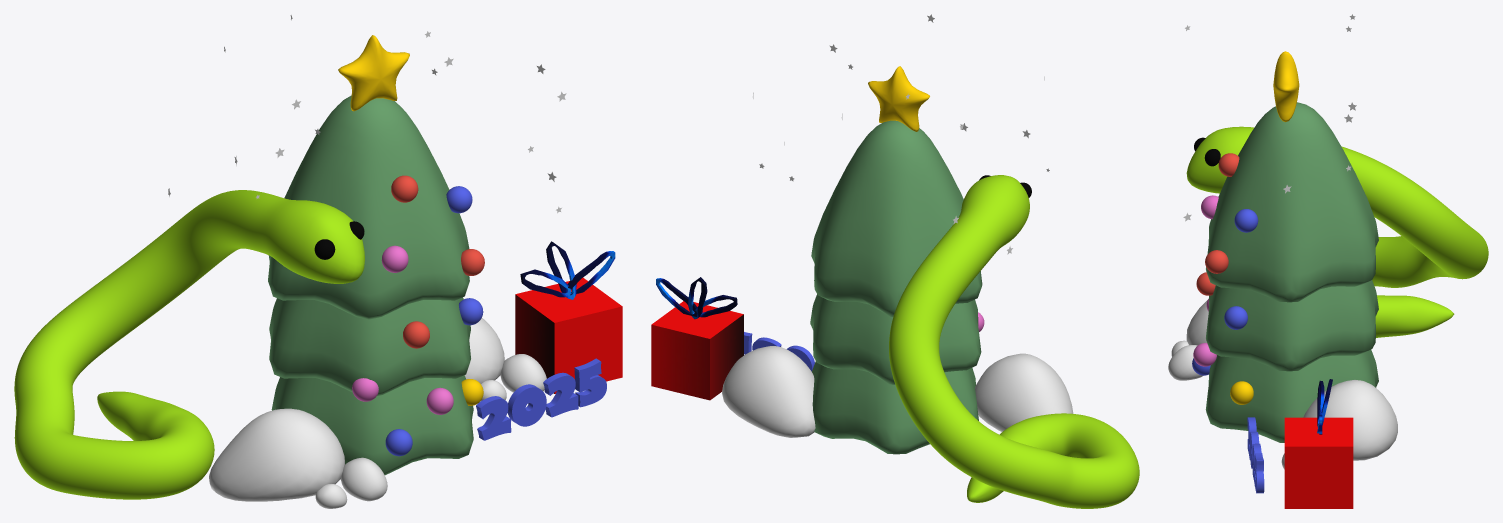
3 views of the same model, side by side, from view 1: azimuth 30°, elevation 25°; view 2: azimuth 150°, elevation 25°; view 3: azimuth 270°, elevation 25° (orthographic). The views are drawn at different scales.
Parts seen in each view (by area): view 1: Zmeya, Cylinder.003, Cylinder.001, Sphere.018, Cylinder.002, Cube.001, Text, Sphere.001, Zvezda; view 2: Zmeya, Cylinder.003, Cube.001, Cylinder.002, Cylinder.001, Sphere.001, Sphere.018, Zvezda, Text; view 3: Cylinder.003, Zmeya, Cylinder.001, Cylinder.002, Cube.001, Sphere.001, Sphere.018, Zvezda, Text, Sphere.005, Sphere.008, Sphere.002 (+3 smaller).
Boxes of the visible parts, left/top/right/bottom form: Zmeya: left=14, top=190, right=364, bottom=499; Cylinder.003: left=268, top=95, right=469, bottom=319; Cylinder.001: left=269, top=297, right=470, bottom=395; Sphere.018: left=209, top=408, right=387, bottom=508; Cylinder.002: left=271, top=375, right=473, bottom=475; Cube.001: left=515, top=241, right=622, bottom=393; Text: left=476, top=358, right=606, bottom=440; Sphere.001: left=464, top=318, right=546, bottom=401; Zvezda: left=338, top=35, right=409, bottom=111; Zmeya: left=889, top=175, right=1139, bottom=508; Cylinder.003: left=811, top=120, right=982, bottom=316; Cube.001: left=651, top=277, right=743, bottom=400; Cylinder.002: left=812, top=361, right=978, bottom=454; Cylinder.001: left=810, top=294, right=981, bottom=384; Sphere.001: left=722, top=346, right=815, bottom=437; Sphere.018: left=975, top=353, right=1073, bottom=431; Zvezda: left=868, top=66, right=929, bottom=131; Text: left=744, top=332, right=814, bottom=371; Cylinder.003: left=1206, top=102, right=1378, bottom=302; Zmeya: left=1186, top=126, right=1488, bottom=337; Cylinder.001: left=1206, top=280, right=1378, bottom=371; Cylinder.002: left=1205, top=349, right=1378, bottom=442; Cube.001: left=1284, top=379, right=1353, bottom=508; Sphere.001: left=1281, top=380, right=1397, bottom=469; Sphere.018: left=1168, top=300, right=1208, bottom=380; Zvezda: left=1273, top=51, right=1299, bottom=122; Text: left=1247, top=417, right=1264, bottom=493; Sphere.005: left=1234, top=209, right=1258, bottom=232; Sphere.008: left=1205, top=250, right=1228, bottom=273; Sphere.002: left=1230, top=381, right=1253, bottom=404.
Size of the model in its own units: 2.41 by 1.73 by 1.34.
Materials: 11 (2 with a texture image).
